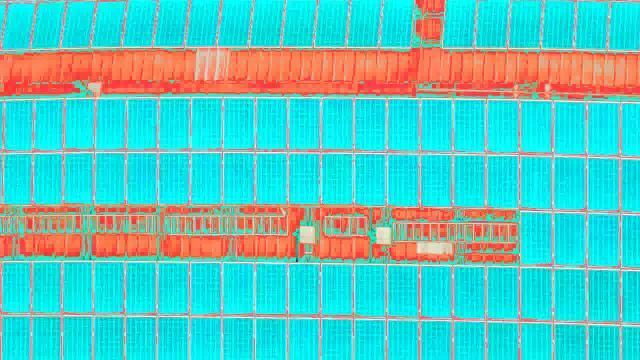dirty: (159, 98, 190, 148), (191, 99, 222, 149), (224, 98, 255, 148), (255, 98, 286, 148), (288, 98, 319, 148), (321, 99, 352, 149), (356, 99, 387, 149), (388, 100, 419, 150), (420, 100, 451, 150), (454, 101, 485, 151), (486, 101, 517, 151), (521, 101, 552, 151), (555, 102, 586, 152), (588, 104, 619, 154), (2, 151, 33, 201), (31, 152, 62, 202), (61, 151, 92, 201), (94, 153, 125, 203), (125, 152, 156, 202), (159, 153, 190, 203), (190, 153, 221, 203), (222, 152, 253, 202), (256, 153, 287, 203), (288, 152, 319, 202), (321, 153, 352, 203), (355, 153, 386, 203), (388, 154, 419, 204), (419, 154, 450, 204), (453, 153, 484, 203), (486, 155, 517, 205), (519, 157, 550, 207), (554, 157, 585, 207), (587, 158, 618, 208), (521, 213, 552, 263), (553, 214, 584, 264), (587, 215, 618, 265), (589, 270, 620, 320), (554, 269, 585, 319), (519, 269, 550, 319), (488, 268, 519, 318), (453, 268, 484, 318), (421, 267, 452, 317), (387, 266, 418, 316), (355, 265, 386, 315), (322, 264, 353, 314), (288, 264, 319, 314), (255, 263, 286, 313), (223, 263, 254, 313), (189, 264, 220, 314), (157, 262, 188, 312), (124, 263, 155, 313), (92, 261, 123, 311), (61, 262, 92, 312), (29, 262, 60, 312), (1, 263, 30, 313), (577, 2, 607, 50), (610, 3, 640, 51), (542, 1, 572, 48), (6, 101, 33, 150), (36, 100, 63, 149), (67, 100, 94, 149), (97, 99, 124, 148), (128, 98, 155, 147), (187, 1, 216, 46), (477, 2, 506, 47), (157, 1, 186, 45), (220, 1, 249, 45), (254, 1, 283, 45), (283, 1, 312, 45), (318, 1, 347, 45), (350, 1, 379, 45), (383, 1, 412, 45), (444, 1, 473, 45), (510, 1, 539, 45), (5, 3, 31, 47), (35, 2, 61, 46), (65, 1, 91, 45), (96, 1, 122, 45), (127, 1, 153, 45)
